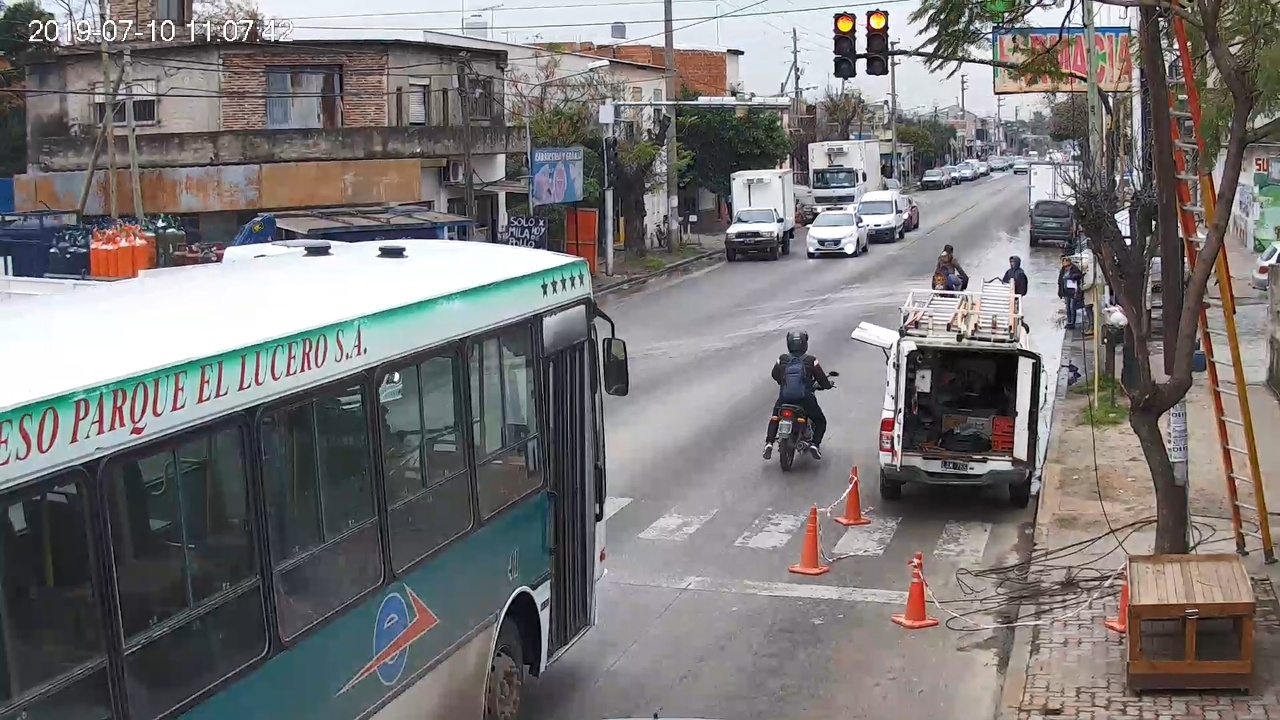bus: (1, 238, 630, 719)
motorcycle: (763, 370, 839, 471)
traffic light: (834, 14, 856, 78), (868, 11, 887, 74)
